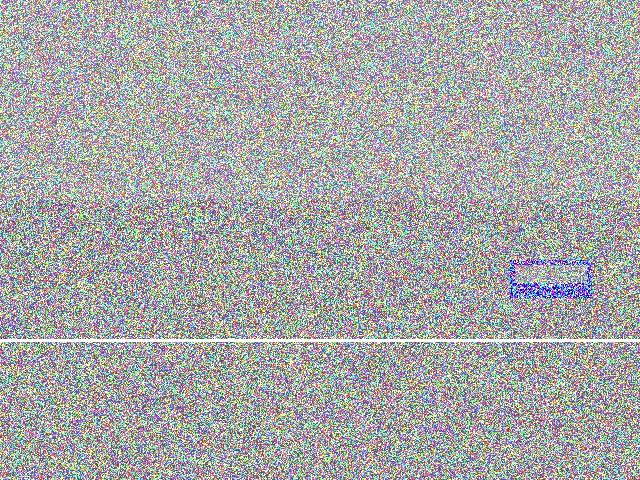motorcycle: (207, 271, 305, 354)
